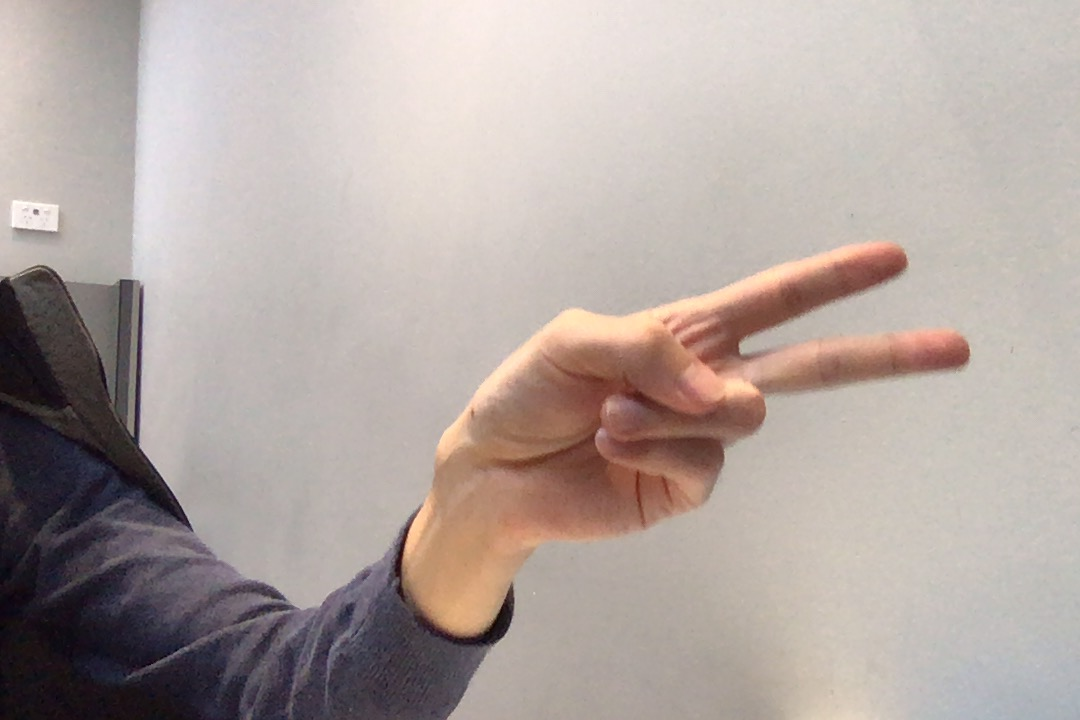peacesign: (436, 225, 987, 558)
